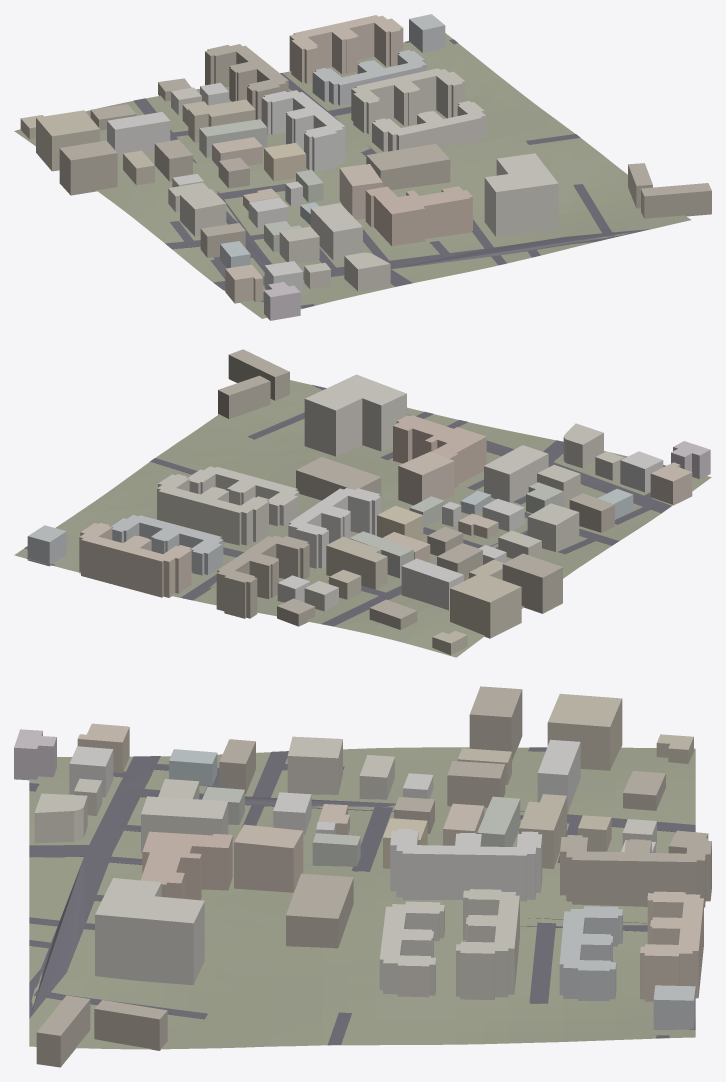
The model's file is chunk_3_1.glb.
3 renders of one model, top to bottom at view 1: azimuth 30°, elevation 25°; view 2: azimuth 150°, elevation 25°; view 3: azimuth 270°, elevation 25°, orthographic. The views are drawn at different scales.
Parts seen in each view (by area): view 1: geometry_47, geometry_40, geometry_0, geometry_8, geometry_1, geometry_4, geometry_2, geometry_3, geometry_13, geometry_22, geometry_5, geometry_7 (+31 smaller); view 2: geometry_47, geometry_40, geometry_0, geometry_1, geometry_3, geometry_4, geometry_8, geometry_7, geometry_5, geometry_2, geometry_22, geometry_34 (+35 smaller); view 3: geometry_47, geometry_40, geometry_4, geometry_3, geometry_1, geometry_0, geometry_2, geometry_5, geometry_8, geometry_7, geometry_13, geometry_43 (+40 smaller).
Part boxes in pixels (box(x1,y1,x2,y2)): geometry_47: box(14, 33, 690, 318); geometry_40: box(484, 153, 558, 236); geometry_0: box(289, 15, 403, 83); geometry_8: box(365, 186, 472, 246); geometry_1: box(351, 68, 465, 134); geometry_4: box(261, 90, 345, 171); geometry_2: box(372, 101, 486, 151); geometry_3: box(205, 44, 288, 120); geometry_13: box(366, 144, 450, 190); geometry_22: box(59, 140, 117, 195); geometry_5: box(312, 50, 426, 105); geometry_7: box(36, 110, 99, 171); geometry_47: box(14, 380, 711, 657); geometry_40: box(304, 374, 406, 456); geometry_0: box(79, 522, 191, 597); geometry_1: box(157, 474, 268, 545); geometry_3: box(216, 535, 309, 618); geometry_4: box(288, 488, 380, 568); geometry_8: box(393, 415, 486, 487); geometry_7: box(450, 572, 521, 638); geometry_5: box(111, 515, 223, 575); geometry_2: box(188, 466, 299, 526); geometry_22: box(502, 553, 562, 613); geometry_34: box(484, 445, 548, 502); geometry_47: box(29, 747, 695, 1049); geometry_40: box(95, 878, 204, 985); geometry_4: box(390, 828, 542, 901); geometry_3: box(560, 835, 711, 907); geometry_1: box(456, 889, 519, 999); geometry_0: box(640, 891, 703, 1001); geometry_2: box(379, 901, 444, 997); geometry_5: box(559, 906, 622, 1000); geometry_8: box(141, 831, 232, 900); geometry_7: box(547, 693, 622, 770); geometry_13: box(286, 873, 353, 948); geometry_43: box(234, 824, 303, 892).
Size of the model in its own units: 280 by 27.62 by 262.
